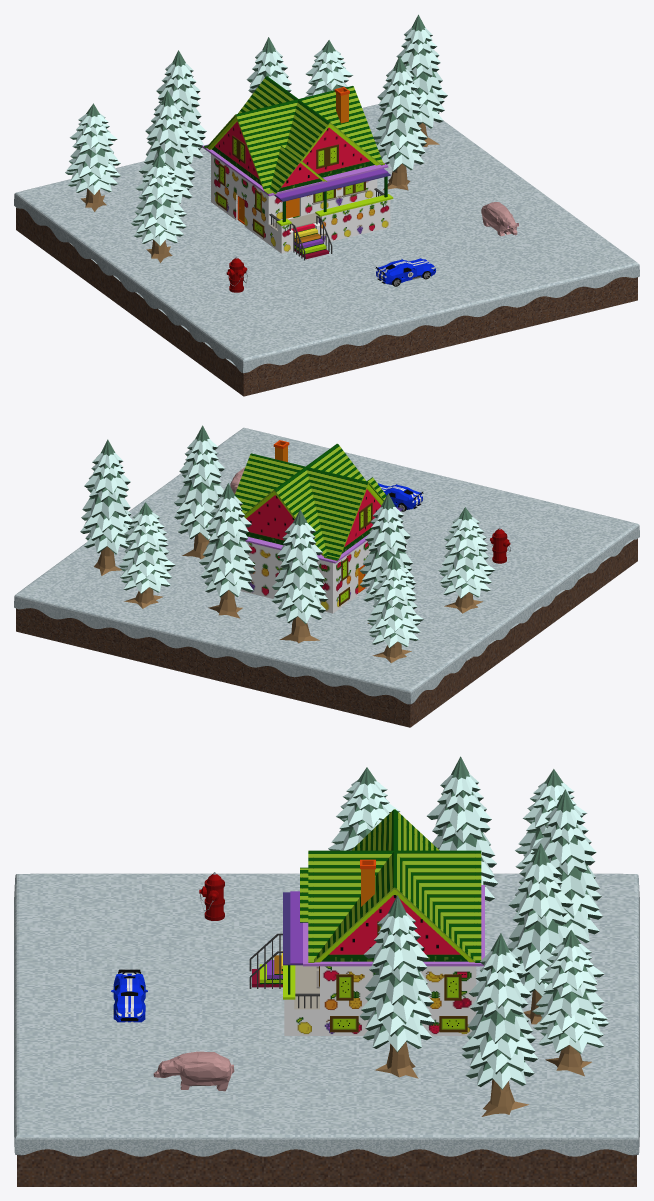
The picture shows the model from 3 angles, top to bottom: view 1: azimuth 30°, elevation 25°; view 2: azimuth 150°, elevation 25°; view 3: azimuth 270°, elevation 25°; orthographic projection. The views are drawn at different scales.
Visible parts, largest first — view 1: Cube.003, Cube.1063, VEHICLES_RACING_CAR, ANIMAL_HIPOPOTAMO, OBJRANDOM_FIRE_HYDRANT; view 2: Cube.003, Cube.1063, VEHICLES_RACING_CAR, OBJRANDOM_FIRE_HYDRANT; view 3: Cube.003, Cube.1063, ANIMAL_HIPOPOTAMO, VEHICLES_RACING_CAR, OBJRANDOM_FIRE_HYDRANT.
Part boxes in pixels (<box>): Cube.003: <box>14,14,639,396</box>; Cube.1063: <box>202,76,393,260</box>; VEHICLES_RACING_CAR: <box>375,258,435,286</box>; ANIMAL_HIPOPOTAMO: <box>481,202,518,236</box>; OBJRANDOM_FIRE_HYDRANT: <box>226,256,247,292</box>; Cube.003: <box>14,425,639,727</box>; Cube.1063: <box>235,440,405,613</box>; VEHICLES_RACING_CAR: <box>378,483,423,511</box>; OBJRANDOM_FIRE_HYDRANT: <box>490,527,510,563</box>; Cube.003: <box>14,756,639,1186</box>; Cube.1063: <box>249,809,484,1035</box>; ANIMAL_HIPOPOTAMO: <box>153,1051,234,1091</box>; VEHICLES_RACING_CAR: <box>111,969,147,1022</box>; OBJRANDOM_FIRE_HYDRANT: <box>199,872,224,920</box>.
Size of the model in its own units: 4040 by 1692 by 4040.
31 materials, 5 textured.
